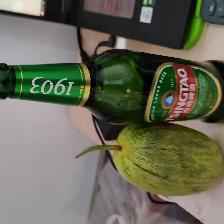gua: (110, 129, 220, 192)
